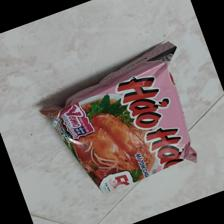Haohao: (40, 41, 198, 199)
